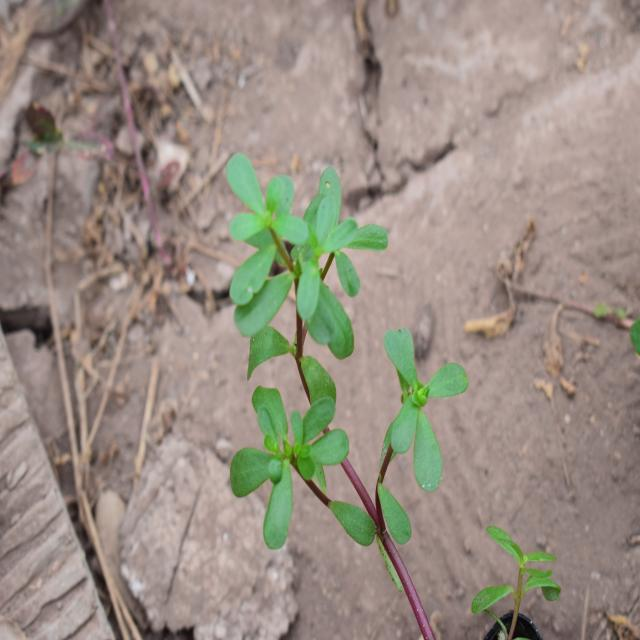purslane: (212, 123, 480, 580)
